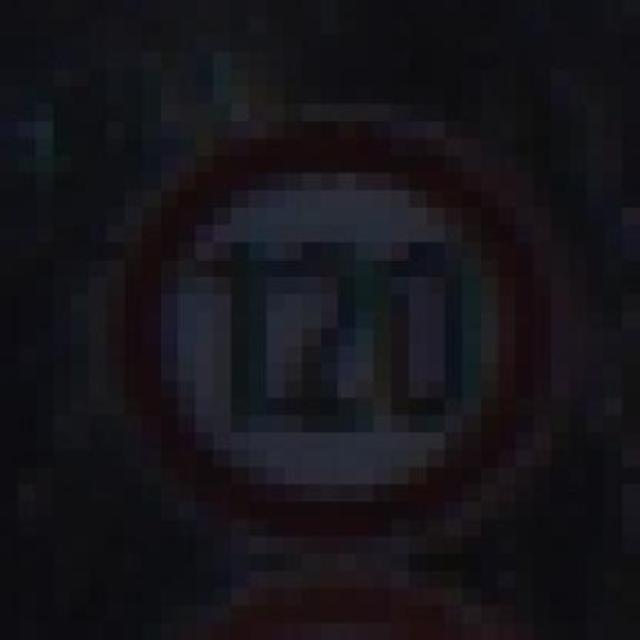forb_speed_over_120: (130, 132, 547, 543)
